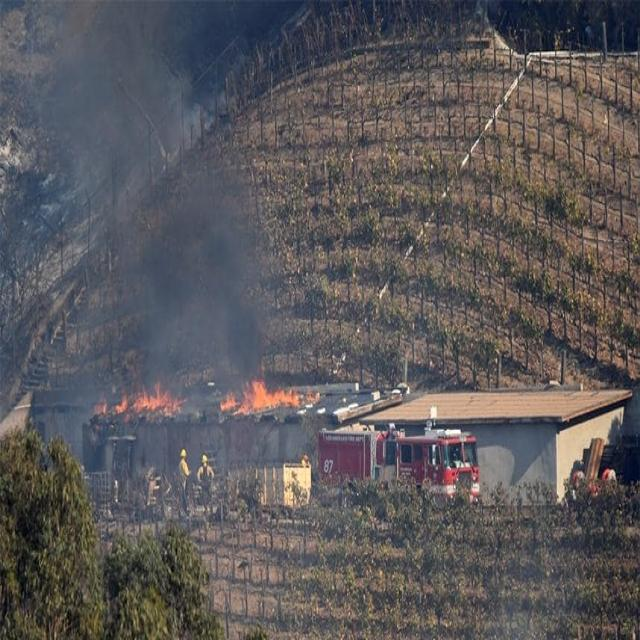fire: (221, 382, 311, 415), (100, 385, 181, 416)
smoke: (96, 137, 232, 349)
